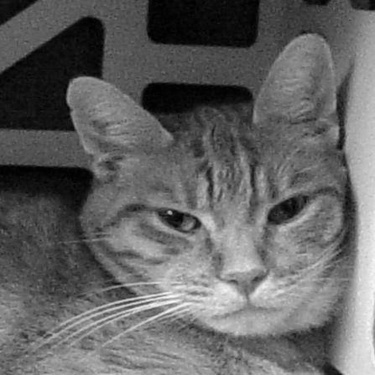cat: (44, 25, 355, 360)
